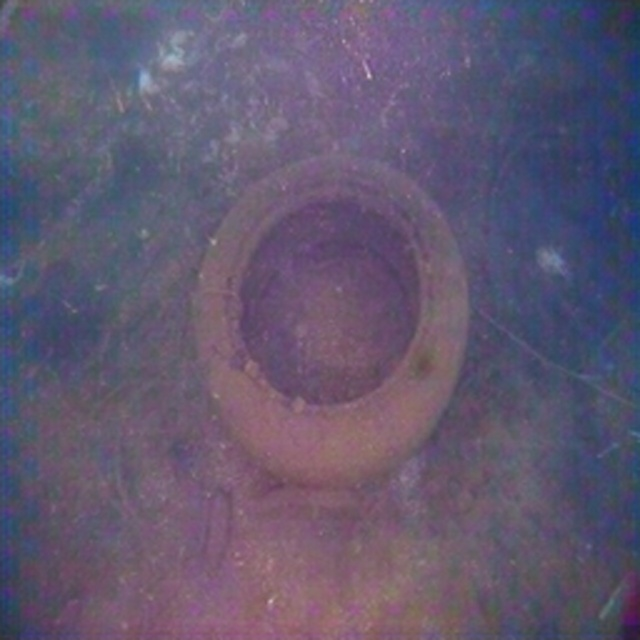mine: (193, 151, 468, 490)
